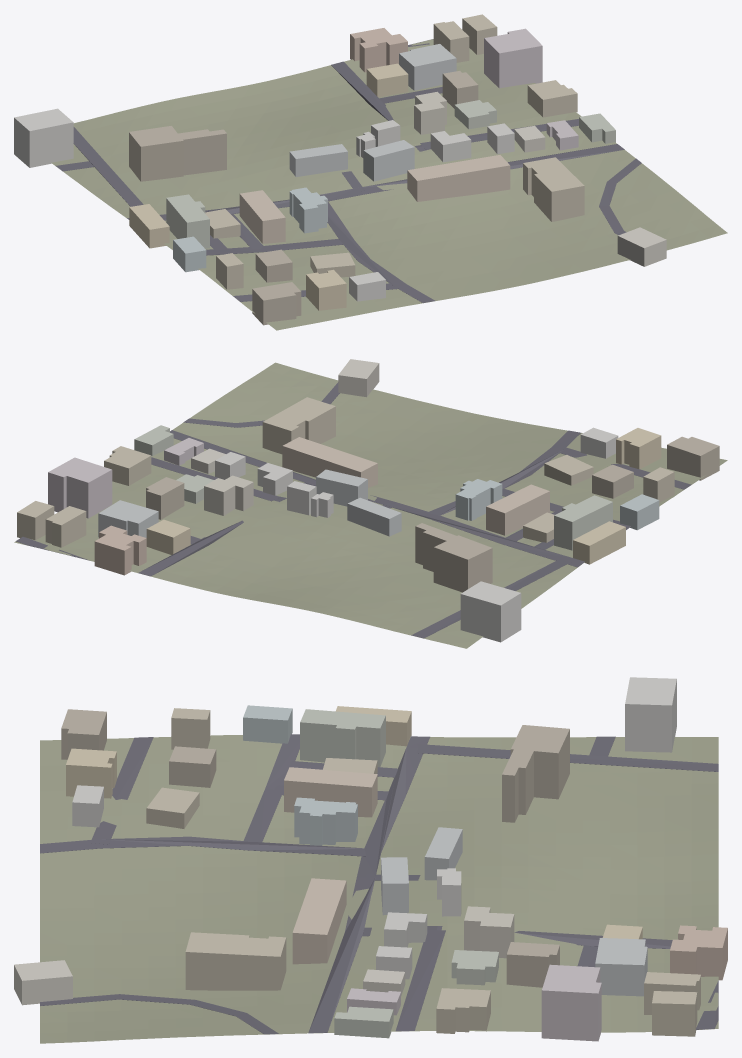
Rendered from chunk_1_5.glb.
3 renders of one model, top to bottom at view 1: azimuth 30°, elevation 25°; view 2: azimuth 150°, elevation 25°; view 3: azimuth 270°, elevation 25°, orthographic. The views are drawn at different scales.
Parts seen in each view (by area): view 1: geometry_36, geometry_0, geometry_32, geometry_1, geometry_22, geometry_34, geometry_19, geometry_13, geometry_2, geometry_9, geometry_11, geometry_4 (+30 smaller); view 2: geometry_36, geometry_0, geometry_1, geometry_22, geometry_34, geometry_32, geometry_38, geometry_2, geometry_11, geometry_13, geometry_9, geometry_27 (+32 smaller); view 3: geometry_36, geometry_34, geometry_38, geometry_0, geometry_22, geometry_11, geometry_1, geometry_32, geometry_2, geometry_37, geometry_19, geometry_3 (+31 smaller).
Boxes of the visible parts, x1,y1,x2,y2 form: geometry_36: (51,39,727,330); geometry_0: (129,126,226,181); geometry_32: (407,155,510,201); geometry_1: (14,108,73,167); geometry_22: (484,28,542,88); geometry_34: (523,157,584,221); geometry_19: (399,44,456,90); geometry_13: (350,28,407,72); geometry_2: (239,190,285,243); geometry_9: (252,282,301,325); geometry_11: (166,194,209,248); geometry_4: (363,140,414,181); geometry_36: (14,362,727,648); geometry_0: (415,523,492,592); geometry_1: (460,581,521,642); geometry_22: (48,457,112,518); geometry_34: (262,397,335,454); geometry_32: (282,437,377,487); geometry_38: (170,430,584,567); geometry_2: (486,484,549,535); geometry_11: (554,495,612,550); geometry_13: (94,525,146,575); geometry_9: (667,436,719,480); geometry_27: (204,475,253,515); geometry_36: (40,735,718,1043); geometry_34: (185,932,286,990); geometry_38: (308,736,429,1033); geometry_0: (502,725,569,822); geometry_22: (541,964,601,1041); geometry_11: (300,709,385,767); geometry_1: (625,677,676,752); geometry_32: (292,878,346,964); geometry_2: (284,767,377,817); geometry_37: (40,836,366,856); geometry_19: (595,938,647,996); geometry_3: (294,797,357,845).
Size of the model in its own units: 268 by 29.03 by 263.
